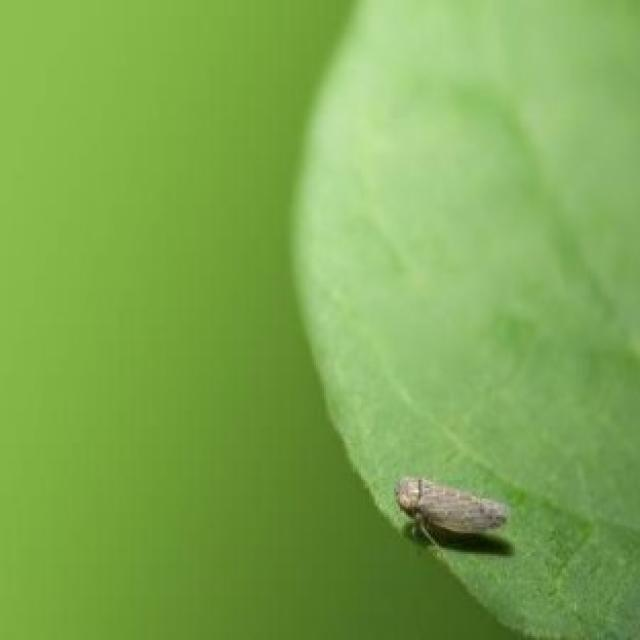brown plant hopper: (396, 478, 507, 542)
